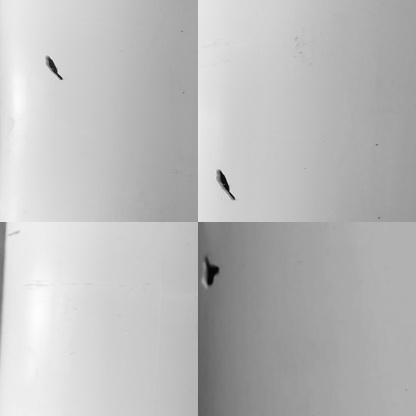kongdong: (198, 253, 222, 296), (212, 167, 239, 201), (40, 52, 70, 82)
